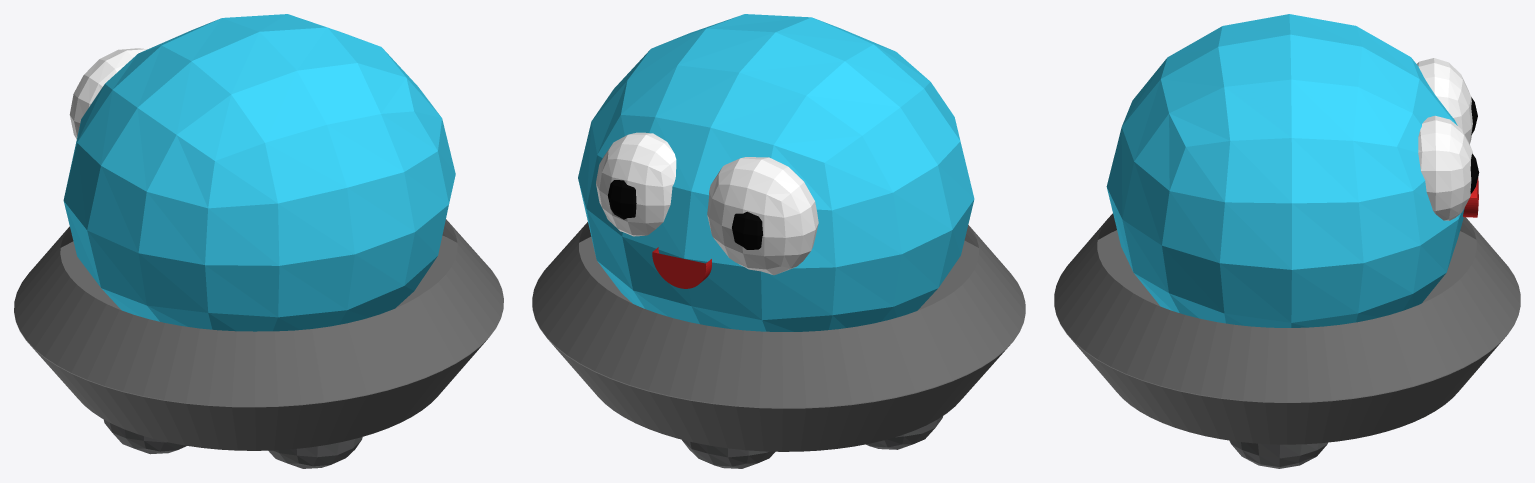
File: player.glb
3 renders of one model, left to right at view 1: azimuth 30°, elevation 25°; view 2: azimuth 150°, elevation 25°; view 3: azimuth 270°, elevation 25°, orthographic. The views are drawn at different scales.
Parts seen in each view (by area): view 1: Sphere 2, Cone, Cone 1, Sphere 1, Sphere 7, Sphere 6; view 2: Sphere 2, Cone, Cone 1, Sphere 1, Sphere, Cylinder, Sphere 8, Sphere 4, Sphere 3, Sphere 6; view 3: Sphere 2, Cone, Cone 1, Sphere, Sphere 1, Sphere 5.
Part boxes in pixels (bbox=[...]): Sphere 2: bbox=[63, 14, 455, 331]; Cone: bbox=[14, 219, 503, 406]; Cone 1: bbox=[14, 302, 503, 450]; Sphere 1: bbox=[69, 48, 147, 138]; Sphere 7: bbox=[268, 437, 362, 468]; Sphere 6: bbox=[103, 419, 186, 454]; Sphere 2: bbox=[578, 14, 974, 331]; Cone: bbox=[532, 222, 1025, 407]; Cone 1: bbox=[532, 310, 1025, 451]; Sphere 1: bbox=[707, 157, 818, 275]; Sphere: bbox=[596, 132, 676, 236]; Cylinder: bbox=[652, 247, 711, 288]; Sphere 8: bbox=[682, 439, 775, 468]; Sphere 4: bbox=[732, 211, 762, 249]; Sphere 3: bbox=[608, 180, 636, 219]; Sphere 6: bbox=[866, 416, 942, 449]; Sphere 2: bbox=[1106, 14, 1464, 327]; Cone: bbox=[1054, 213, 1520, 402]; Cone 1: bbox=[1054, 306, 1520, 444]; Sphere: bbox=[1418, 115, 1472, 220]; Sphere 1: bbox=[1417, 58, 1472, 144]; Sphere 5: bbox=[1229, 440, 1327, 468].
Bounding box in the file's own units: 1.51 × 1.31 × 1.46.
